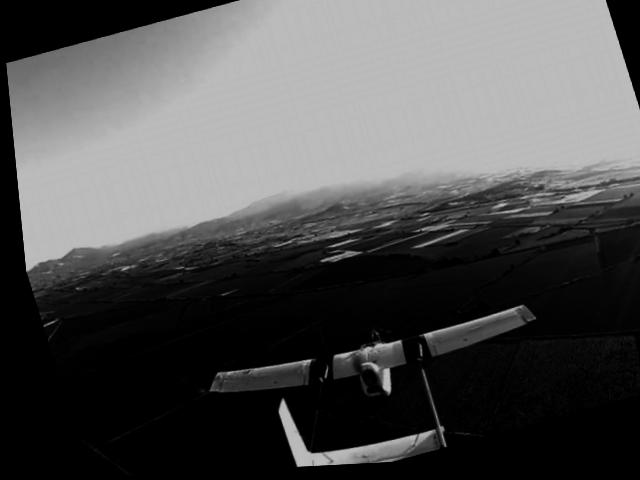hedef: (150, 251, 569, 475)
